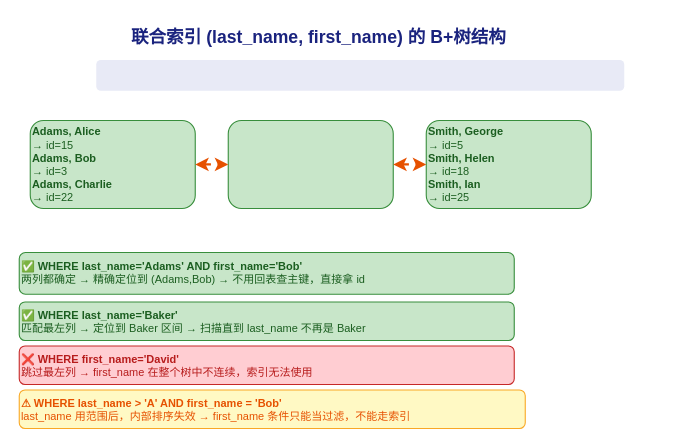
Some shapes in this 699 by 448 pixel diagram are drawn without their labels. Each missing label, with the centre of its shape:
Baker, David → id=8 Baker, Eve → id=12 Baker, Frank → id=30: the point at 310,163
排序规则：先按 last_name 排 → last_name 相同时按 first_name 排: the point at 360,74
